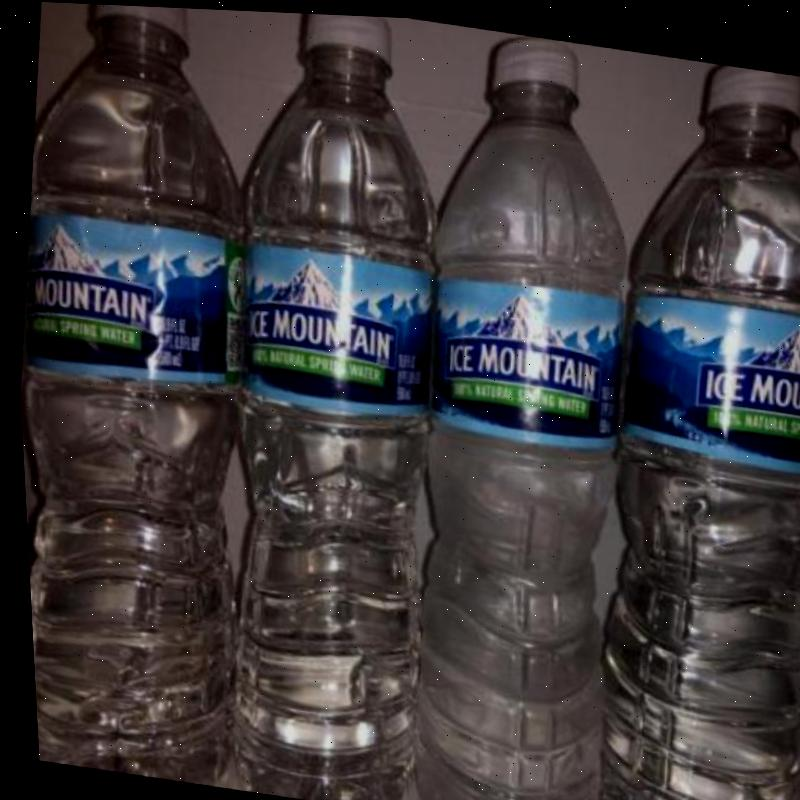botella: (163, 6, 492, 800), (357, 14, 682, 800), (0, 0, 298, 788), (559, 42, 800, 800)
